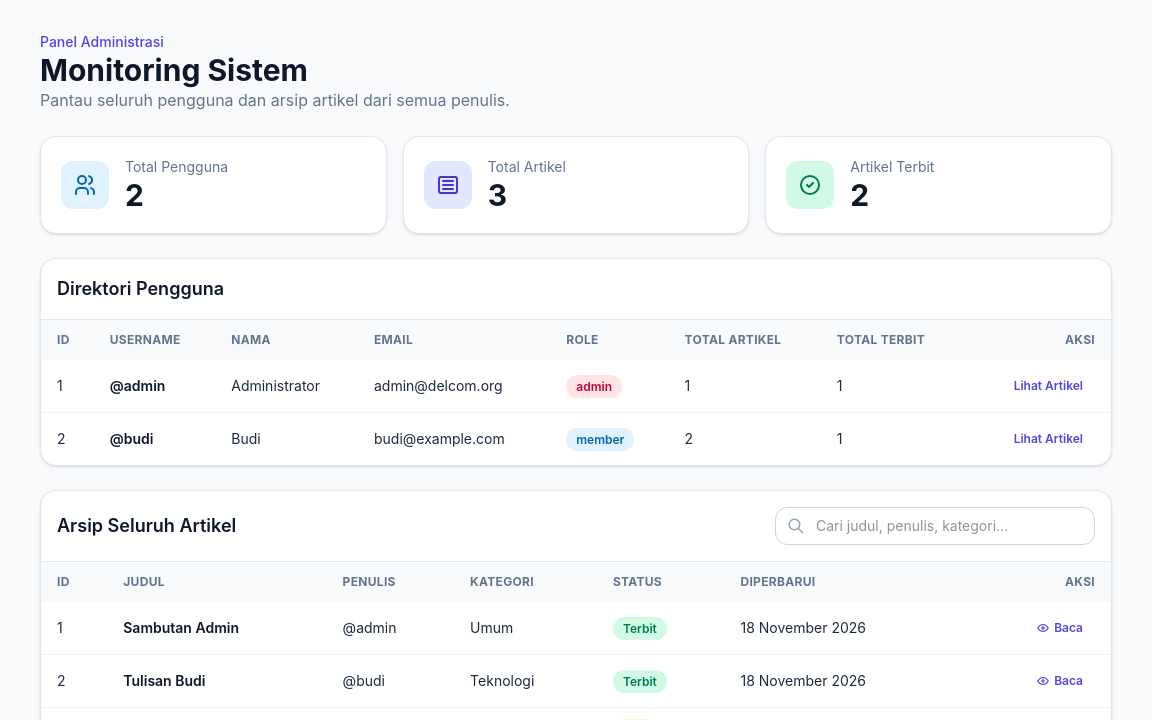
Test: AdminDashboard › pencarian artikel dan state kosong
Expected: the text "budi@example.com" is shown, [358,412,550,465]
Type "opini" into the search field named "Cari artikel sistem" at (935, 526), box [775,507,1095,545]
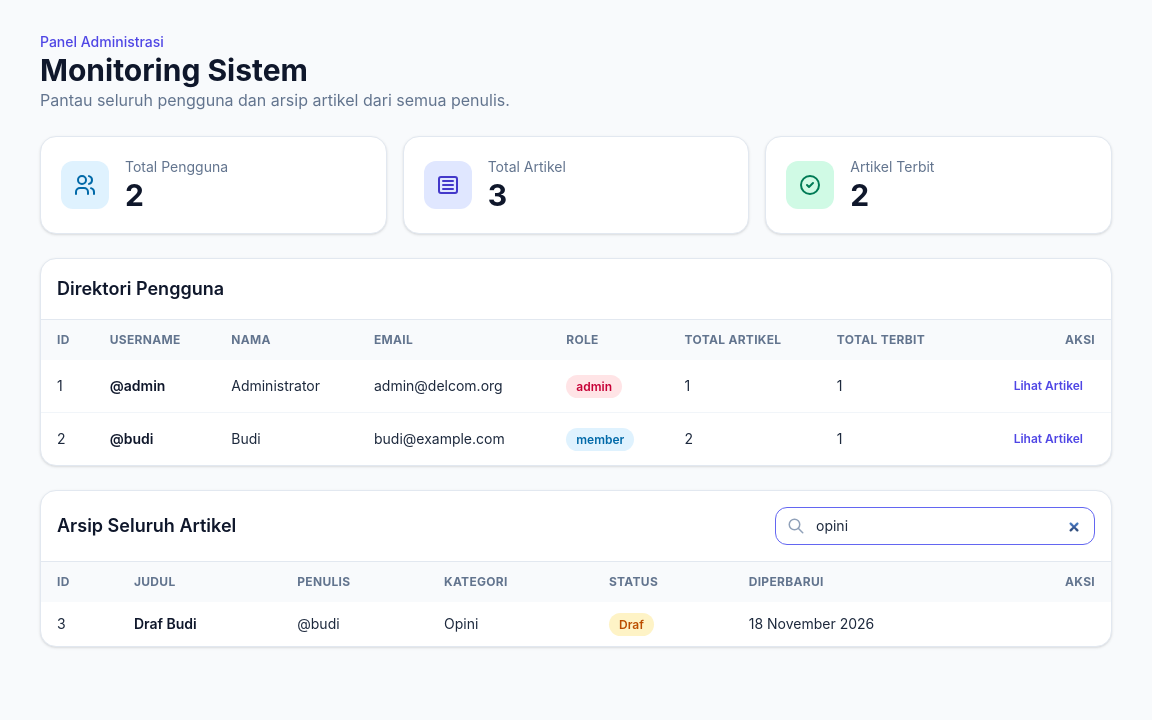
Expected: the text "Draf Budi" is shown, [118,602,281,646]
Now the text "Tulisan Budi" is gone
Type "zzz" into the search field named "Cari artikel sistem" at (935, 526), box [775,507,1095,545]
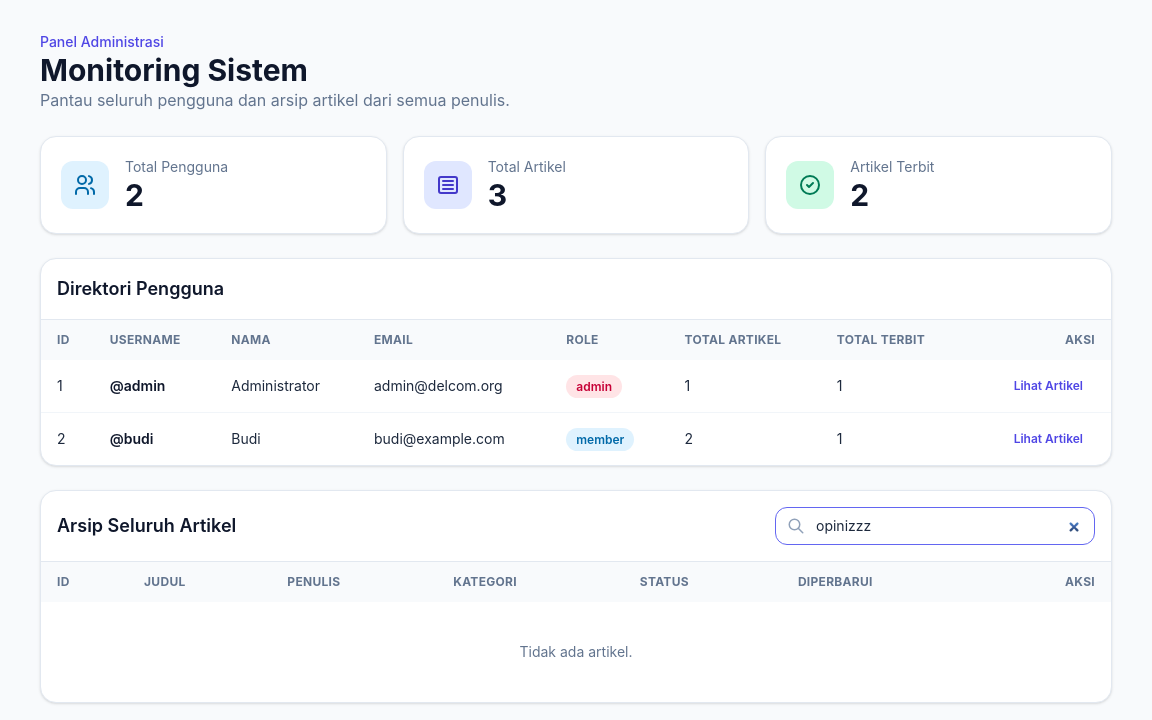
Now the text "Tidak ada artikel." is shown, box [41,602,1111,702]
